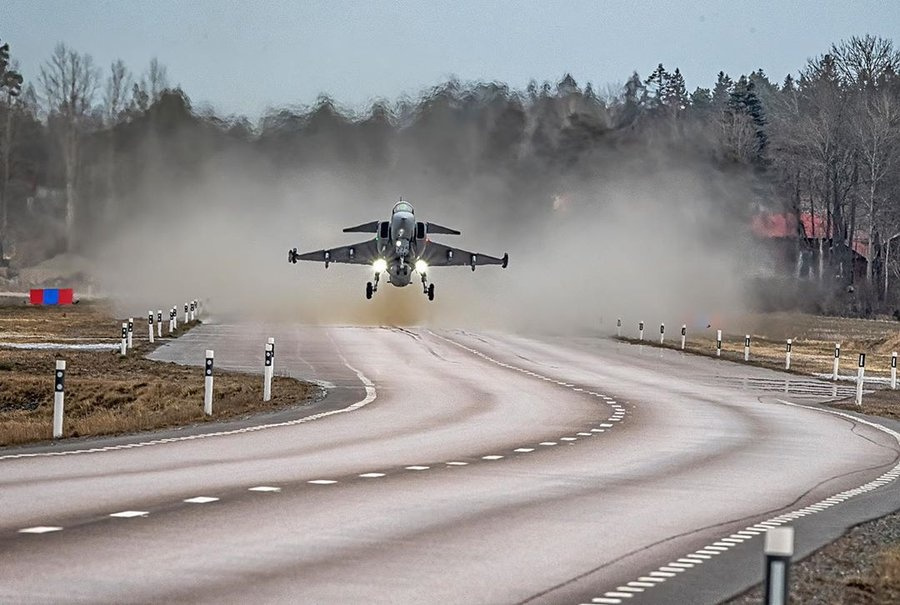JAS39: (288, 195, 509, 301)
